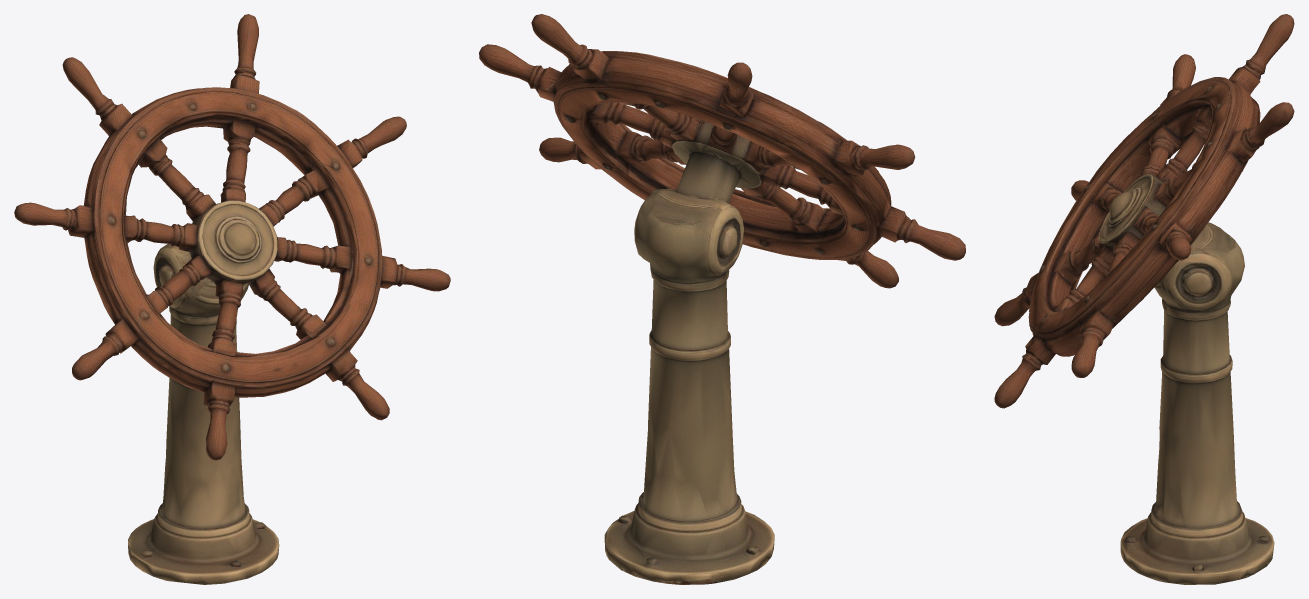
The model's file is rescue-wheel.glb.
The picture shows the model from 3 angles, left to right: view 1: azimuth 30°, elevation 25°; view 2: azimuth 150°, elevation 25°; view 3: azimuth 270°, elevation 25°; orthographic projection. The views are drawn at different scales.
Parts seen in each view (by area): view 1: Mesh_0; view 2: Mesh_0; view 3: Mesh_0.
Boxes of the visible parts, box(x1,y1,x2,y2) form: Mesh_0: box(14, 14, 450, 584); Mesh_0: box(479, 14, 965, 584); Mesh_0: box(994, 14, 1294, 584).
Size of the model in its own units: 1.59 by 1.9 by 1.04.
1 material, 1 textured.
